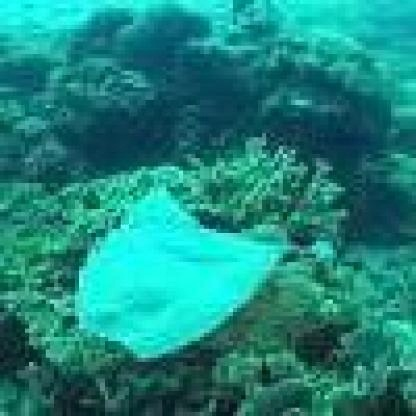pbag: (63, 179, 296, 362)
